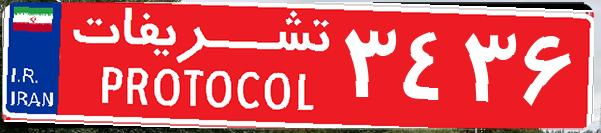3: (340, 20, 400, 115), (460, 20, 520, 115)
4: (400, 20, 460, 115)
6: (520, 20, 580, 115)
تشریفات: (60, 8, 340, 125)
